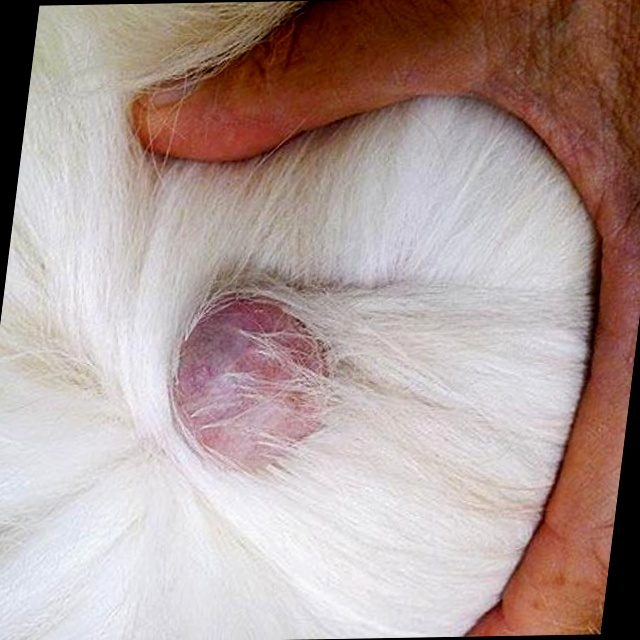lump_and_bump: (166, 282, 332, 481)
